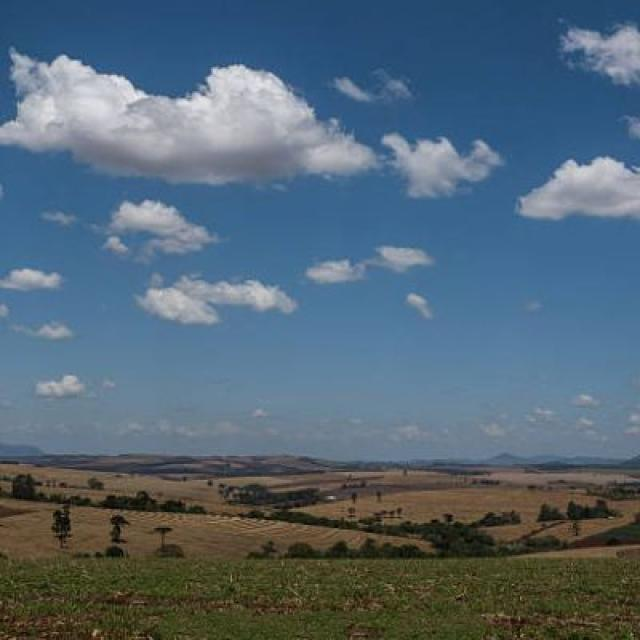St: (2, 36, 513, 221)
